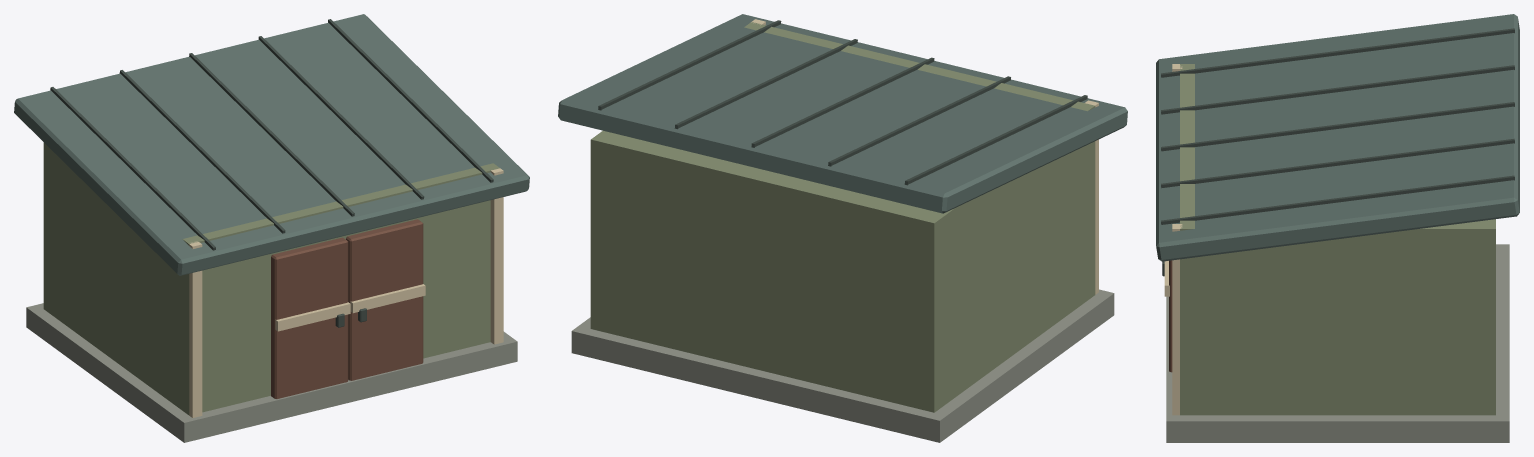
The model's file is tool_shed.glb.
The picture shows the model from 3 angles, left to right: view 1: azimuth 30°, elevation 25°; view 2: azimuth 150°, elevation 25°; view 3: azimuth 270°, elevation 25°; orthographic projection. The views are drawn at different scales.
Parts seen in each view (by area): view 1: tool_shed; view 2: tool_shed; view 3: tool_shed.
Part boxes in pixels (<box>): tool_shed: <box>14,14,529,442</box>; tool_shed: <box>558,14,1127,442</box>; tool_shed: <box>1156,14,1519,442</box>.
Size of the model in its own units: 4.41 by 2.78 by 3.63.
